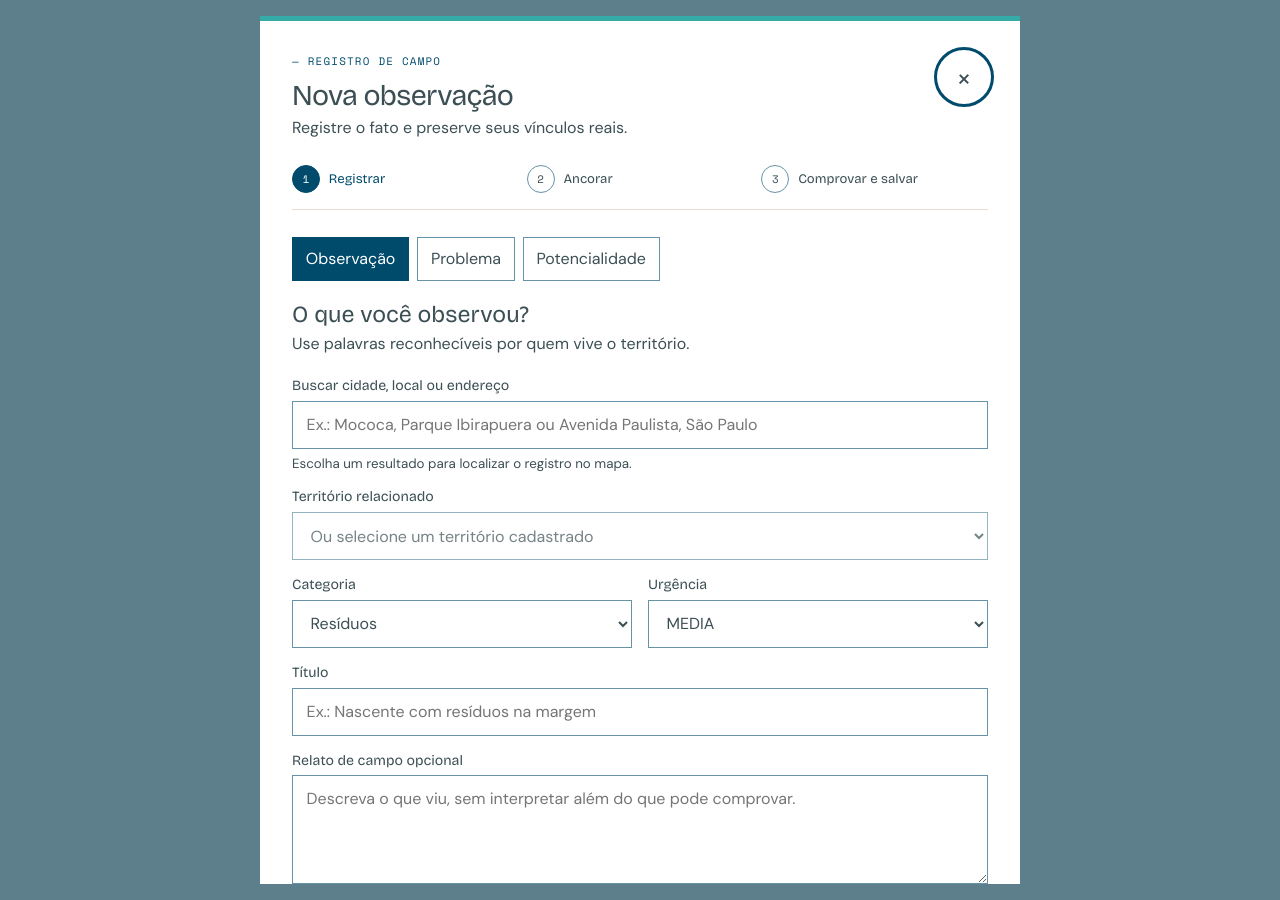
Test case: applies external analysis to the draft only, preserving urgency and the save flow
Type "Água turva" into the field labelled "Título". click: [640, 712]
box: [292,688,988,736]
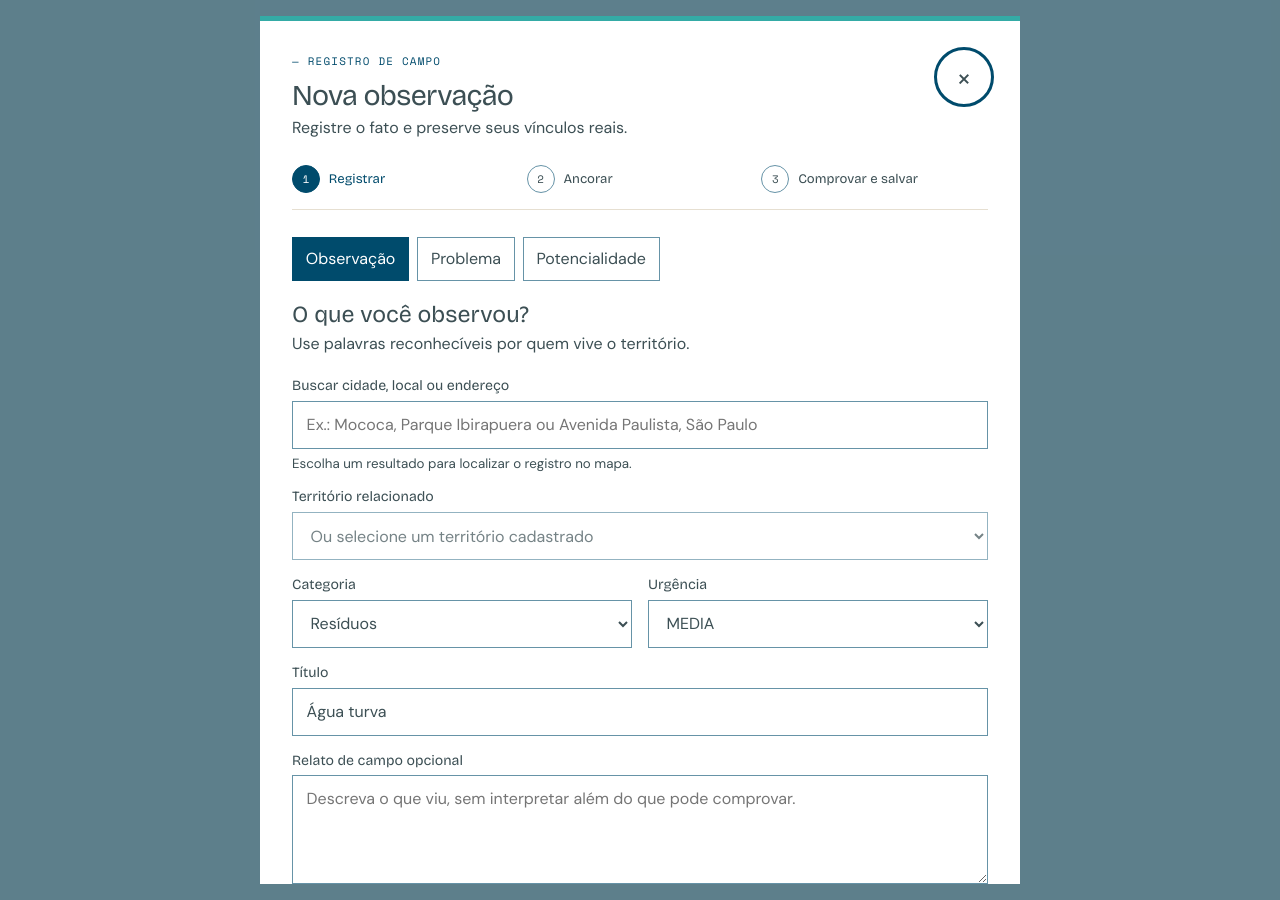
Select "BAIXA" in the dropdown labelled "Urgência". click: [818, 624]
box: [648,600,988,648]
(page scrolled)
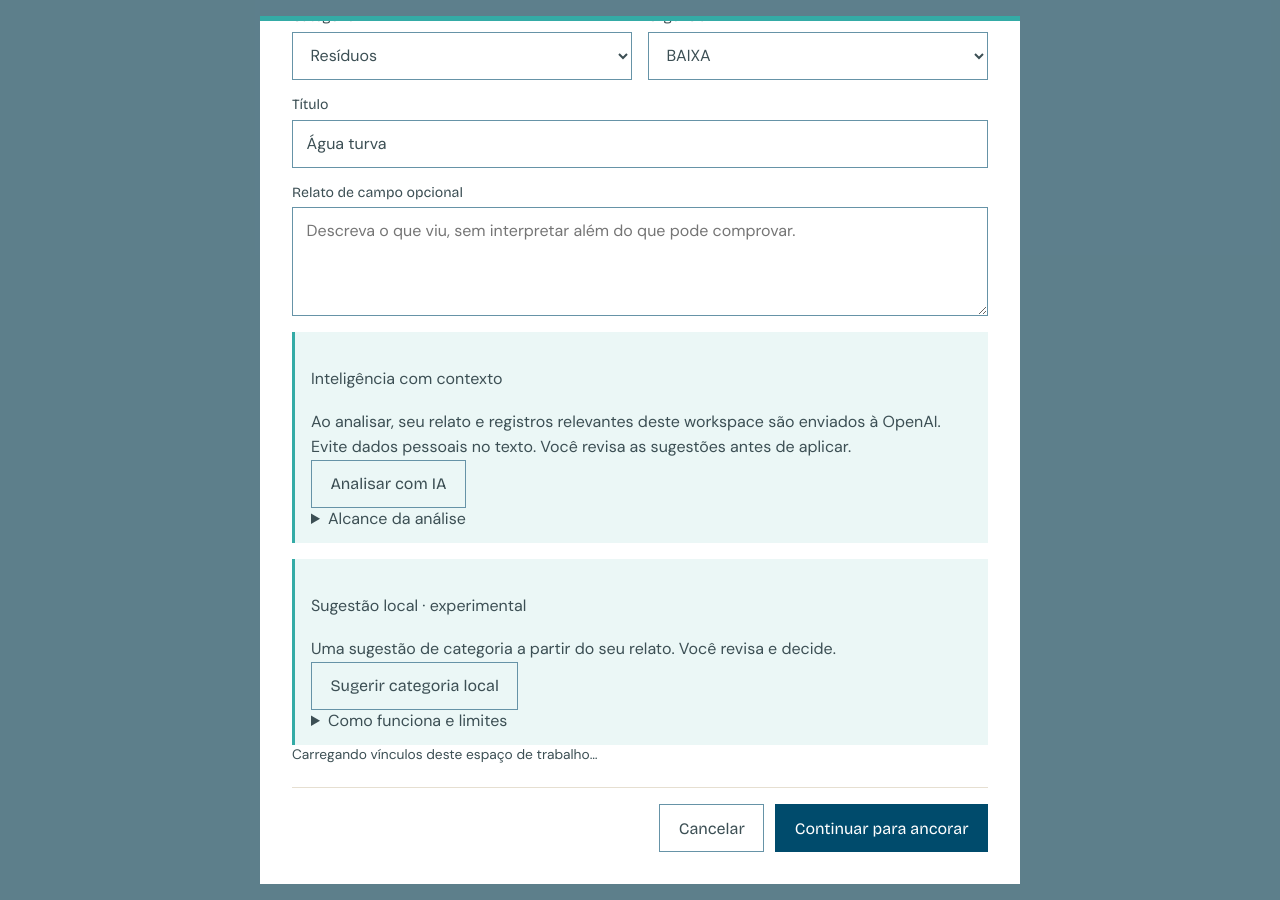
Click the button "Analisar com IA". click: [388, 484]
box: [311,460,466,508]
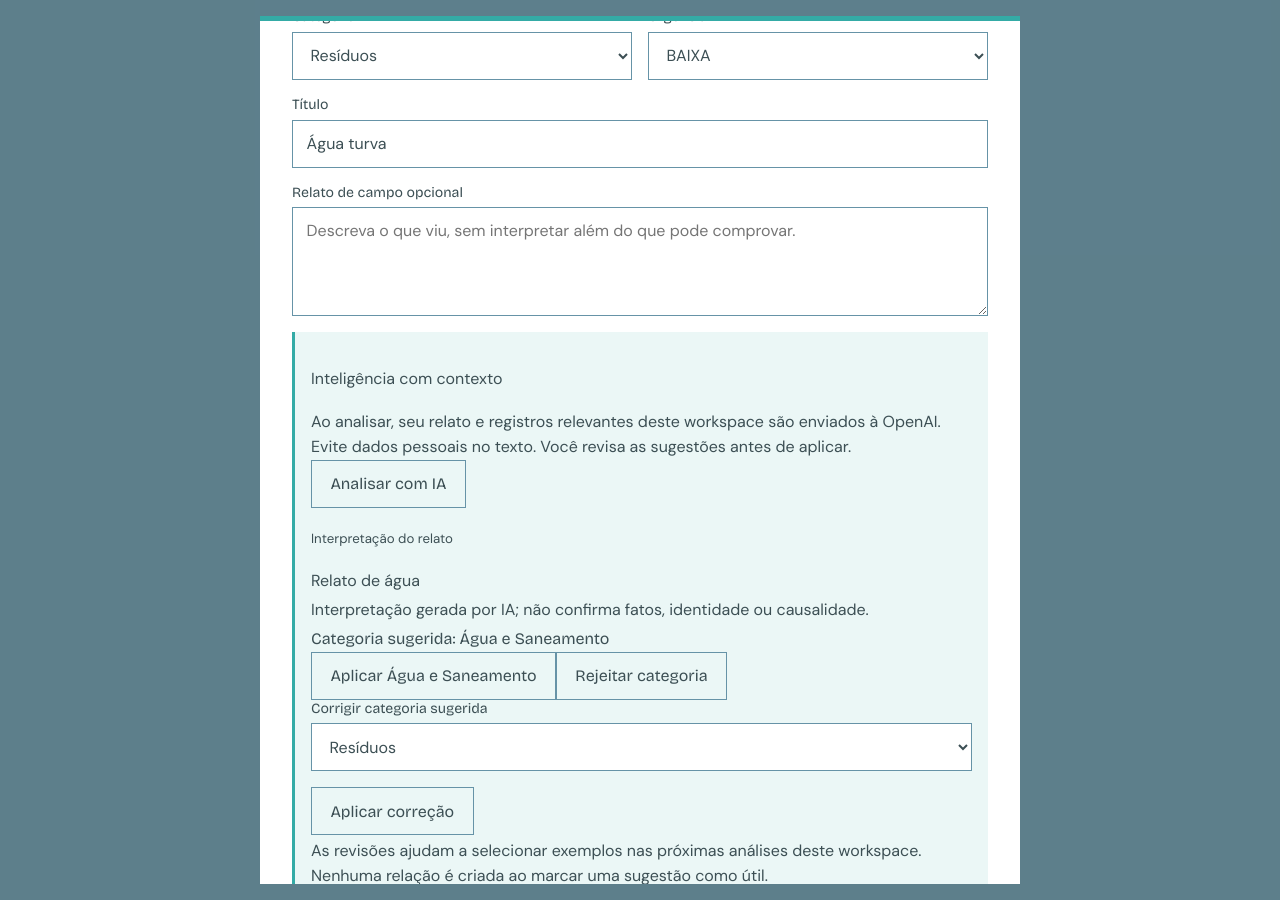
Click the button "Aplicar Água e Saneamento". click: [434, 676]
box: [311,652,556,700]
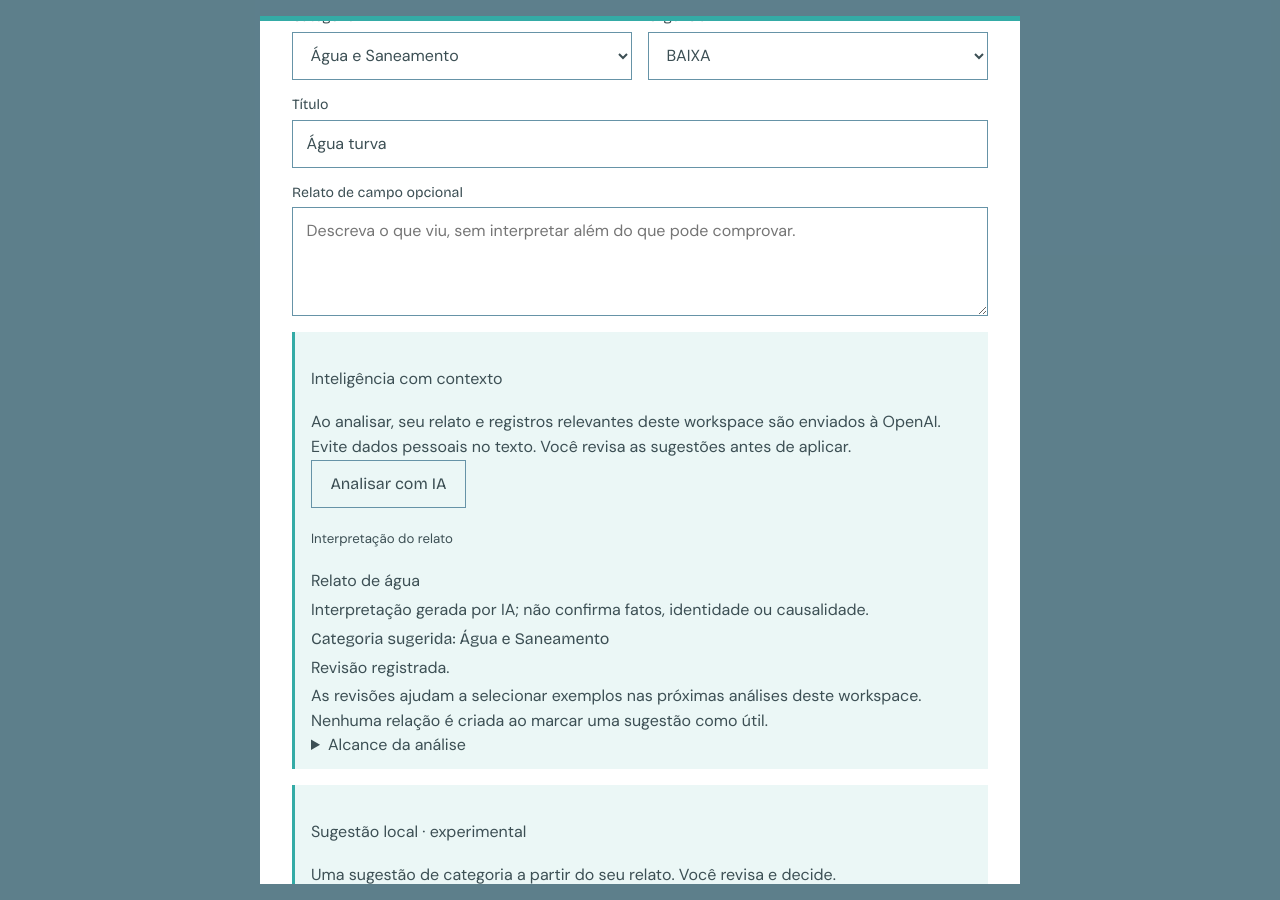
Check: the dropdown labelled "Categoria" shows "Água e Saneamento", box [292,32,632,80]
